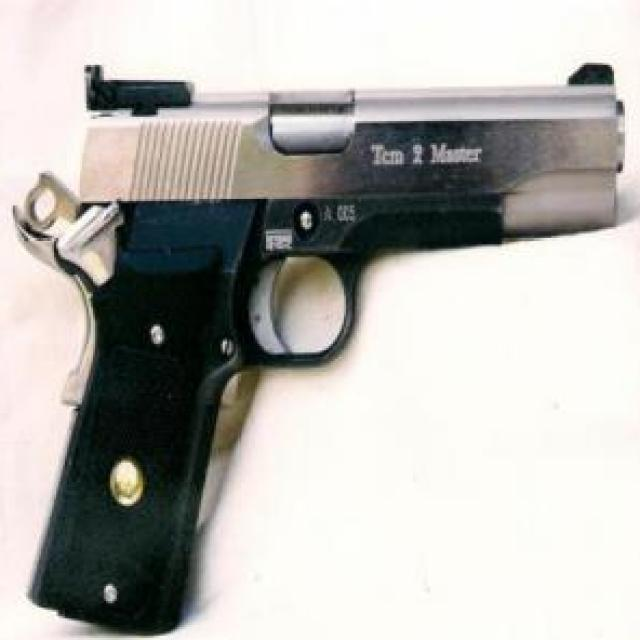pistol: (11, 56, 627, 634)
